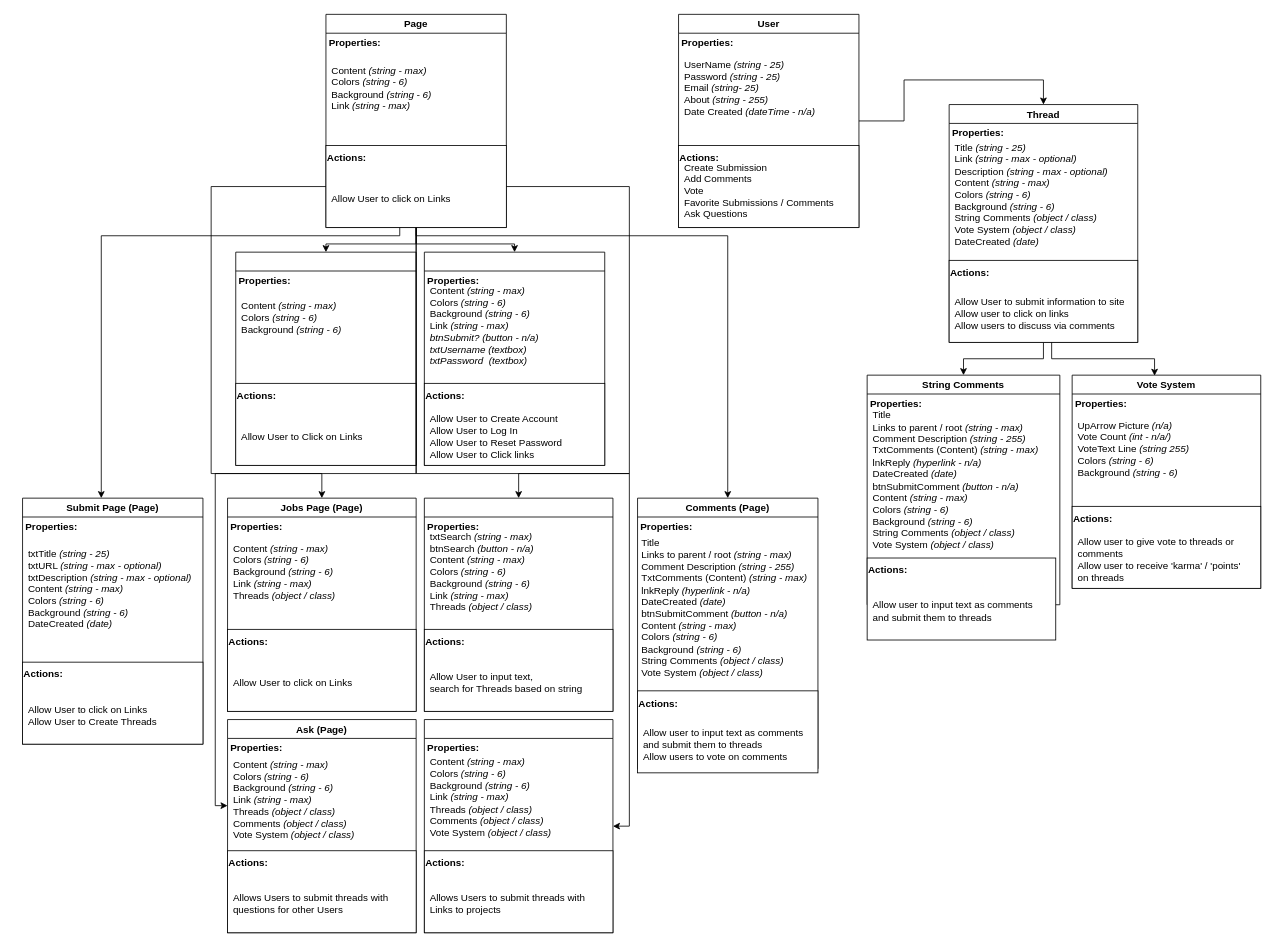
Image size: 1275x947. Some labels were removed from this diagram. The box of each missing label's shape, as (x1, y1, x2, y2) in pixels:
Login Screen (Page): (424, 251, 605, 465)
Search Function (Page): (424, 497, 613, 711)
Show (Page): (424, 719, 613, 933)
Welcome (Page): (235, 251, 416, 465)
